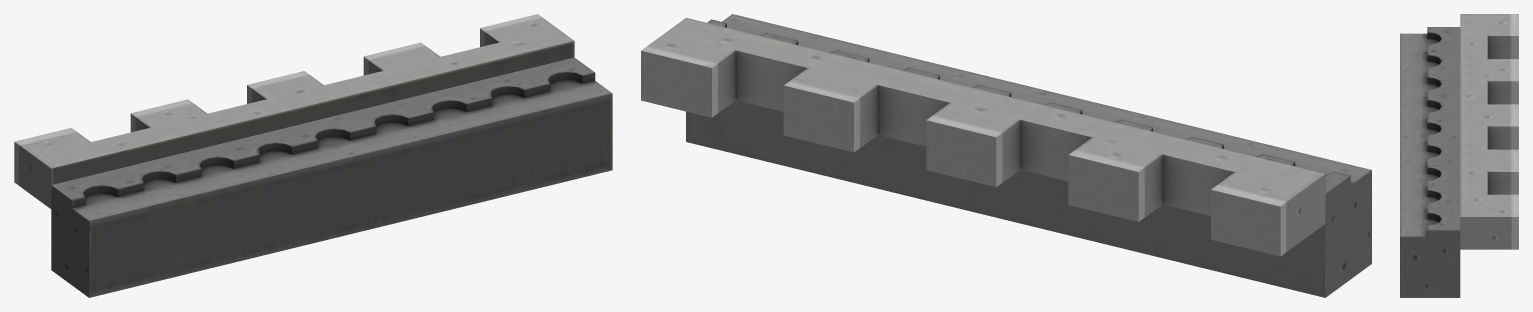
Rendered from CastleDecore.fbx.
3 views of the same model, side by side, from view 1: azimuth 30°, elevation 25°; view 2: azimuth 150°, elevation 25°; view 3: azimuth 270°, elevation 25° (orthographic). The views are drawn at different scales.
Parts seen in each view (by area): view 1: CastleWallDecore; view 2: CastleWallDecore; view 3: CastleWallDecore.
Part boxes in pixels (bbox=[...]): CastleWallDecore: bbox=[14, 14, 612, 297]; CastleWallDecore: bbox=[641, 14, 1371, 297]; CastleWallDecore: bbox=[1400, 14, 1518, 297].
Size of the model in its own units: 353 by 65.53 by 87.38.
